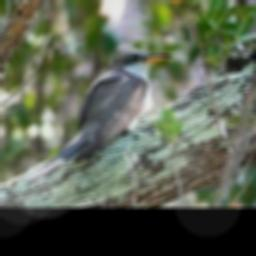Cuckoo: (37, 49, 171, 171)
